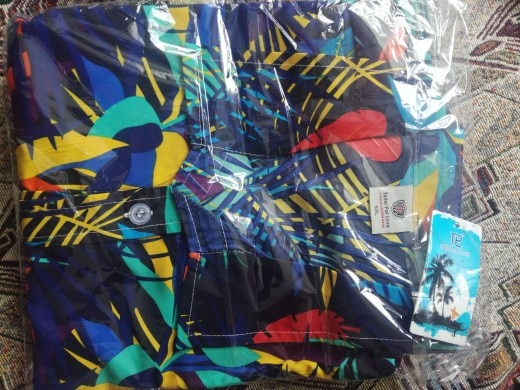shirts: (22, 13, 460, 369)
